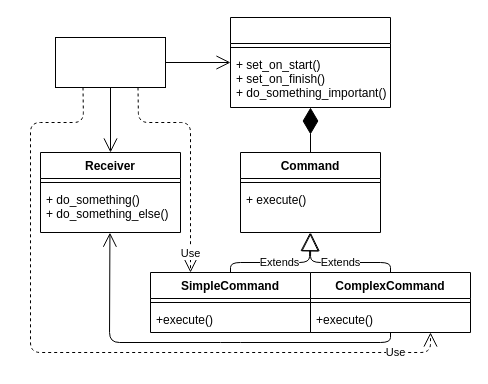
Image size: 488x384. Some labels were removed from this diagram. Here are the shapes that lost their labels. From the top down, the box of each, then its label:
(54, 36, 166, 88): «interface» Client
(230, 16, 390, 108): Invoker
